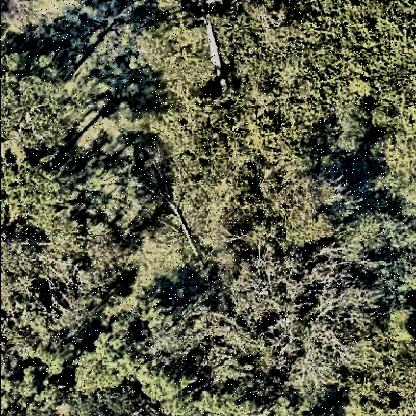tree-top: (228, 250, 376, 385), (6, 238, 119, 332), (71, 340, 193, 406), (2, 66, 84, 156), (2, 332, 75, 416), (3, 159, 75, 235)
